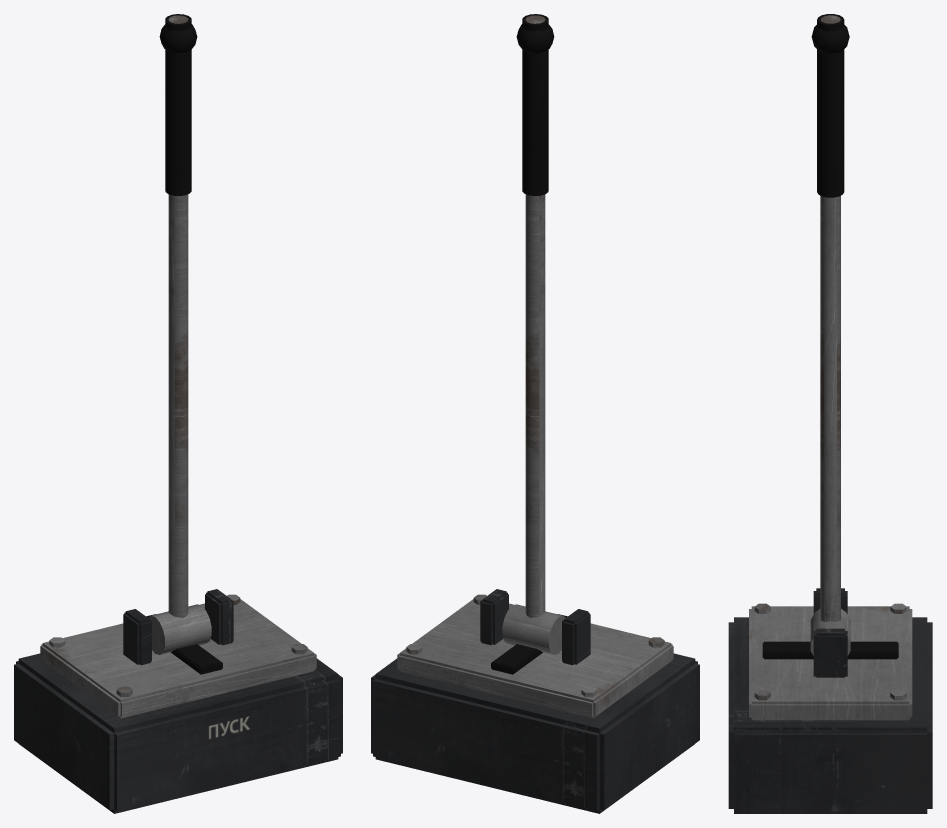
File: start_lever.gltf
3 renders of one model, left to right at view 1: azimuth 30°, elevation 25°; view 2: azimuth 150°, elevation 25°; view 3: azimuth 270°, elevation 25°, orthographic.
Parts seen in each view (by area): view 1: Body, Lever; view 2: Body, Lever; view 3: Body, Lever.
Boxes of the visible parts, x1,y1,x2,y2 form: Body: (14, 589, 342, 813); Lever: (148, 14, 211, 654); Body: (371, 589, 699, 813); Lever: (502, 14, 565, 654); Body: (728, 588, 932, 813); Lever: (810, 14, 850, 655).
Bounding box in the file's own units: 0.4 × 1.2 × 0.3005.
4 materials, 4 textured.
